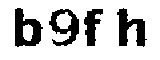9: (46, 6, 81, 50)
b: (9, 6, 43, 50)
f: (83, 7, 107, 50)
h: (115, 7, 152, 52)
